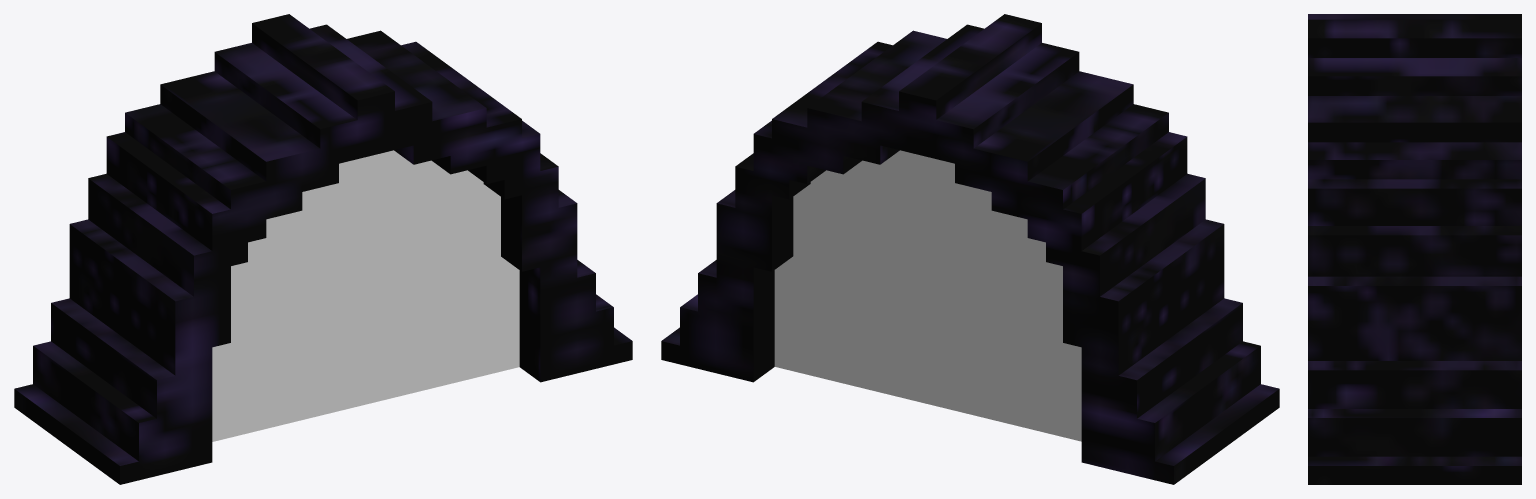
File: portal.fbx
3 views of the same model, side by side, from view 1: azimuth 30°, elevation 25°; view 2: azimuth 150°, elevation 25°; view 3: azimuth 270°, elevation 25° (orthographic).
Visible parts, largest first — view 1: arco, Plane.001; view 2: arco, Plane; view 3: arco.
Boxes of the visible parts, x1,y1,x2,y2 form: arco: (14, 14, 632, 484); Plane.001: (212, 150, 519, 441); arco: (661, 14, 1279, 484); Plane: (774, 150, 1081, 441); arco: (1308, 14, 1521, 484).
Size of the model in its own units: 280 by 170 by 100.
1 material, 1 textured.
